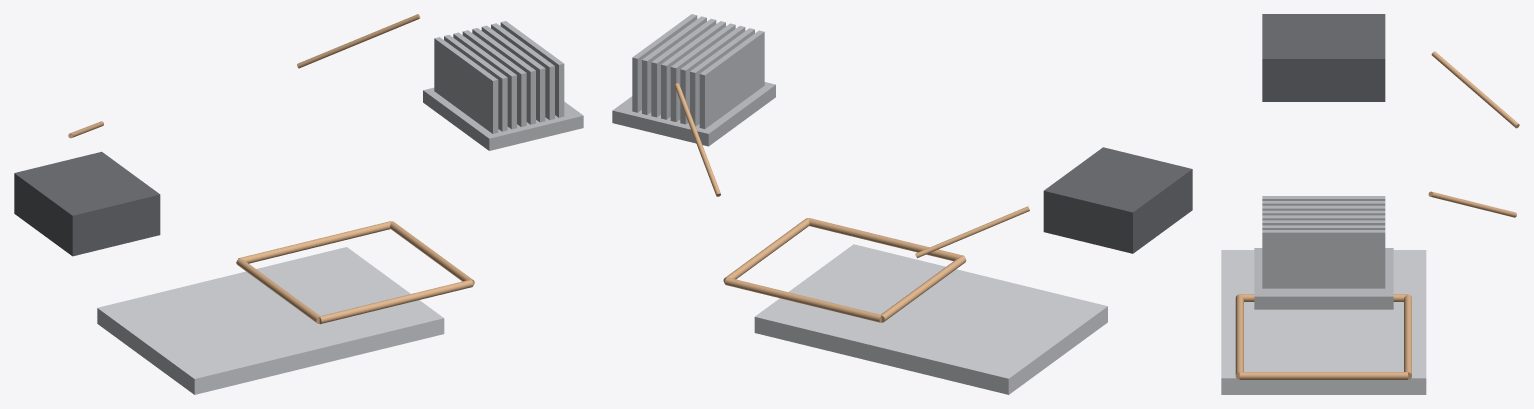
The model's file is exploded.glb.
3 views of the same model, side by side, from view 1: azimuth 30°, elevation 25°; view 2: azimuth 150°, elevation 25°; view 3: azimuth 270°, elevation 25° (orthographic). The views are drawn at different scales.
Parts seen in each view (by area): view 1: assembly_base, heat_sink, heat_source, coolant_loop, link_coolant_loop__heat_sink; view 2: assembly_base, heat_sink, heat_source, coolant_loop, link_coolant_loop__heat_source, link_coolant_loop__heat_sink; view 3: assembly_base, heat_sink, heat_source, coolant_loop, link_coolant_loop__heat_source, link_coolant_loop__heat_sink.
Boxes of the visible parts, x1,y1,x2,y2 form: assembly_base: [97, 247, 444, 394]; heat_sink: [423, 21, 583, 150]; heat_source: [14, 151, 160, 256]; coolant_loop: [236, 221, 474, 324]; link_coolant_loop__heat_sink: [297, 14, 420, 68]; assembly_base: [754, 244, 1107, 394]; heat_sink: [612, 14, 775, 146]; heat_source: [1043, 147, 1192, 253]; coolant_loop: [723, 218, 966, 322]; link_coolant_loop__heat_source: [915, 206, 1029, 258]; link_coolant_loop__heat_sink: [674, 83, 720, 196]; assembly_base: [1221, 250, 1426, 394]; heat_sink: [1254, 196, 1393, 309]; heat_source: [1262, 14, 1385, 101]; coolant_loop: [1235, 294, 1411, 379]; link_coolant_loop__heat_source: [1431, 51, 1519, 128]; link_coolant_loop__heat_sink: [1428, 191, 1516, 217].
Bounding box in the file's own units: 10.02 × 4.32 × 4.85.
